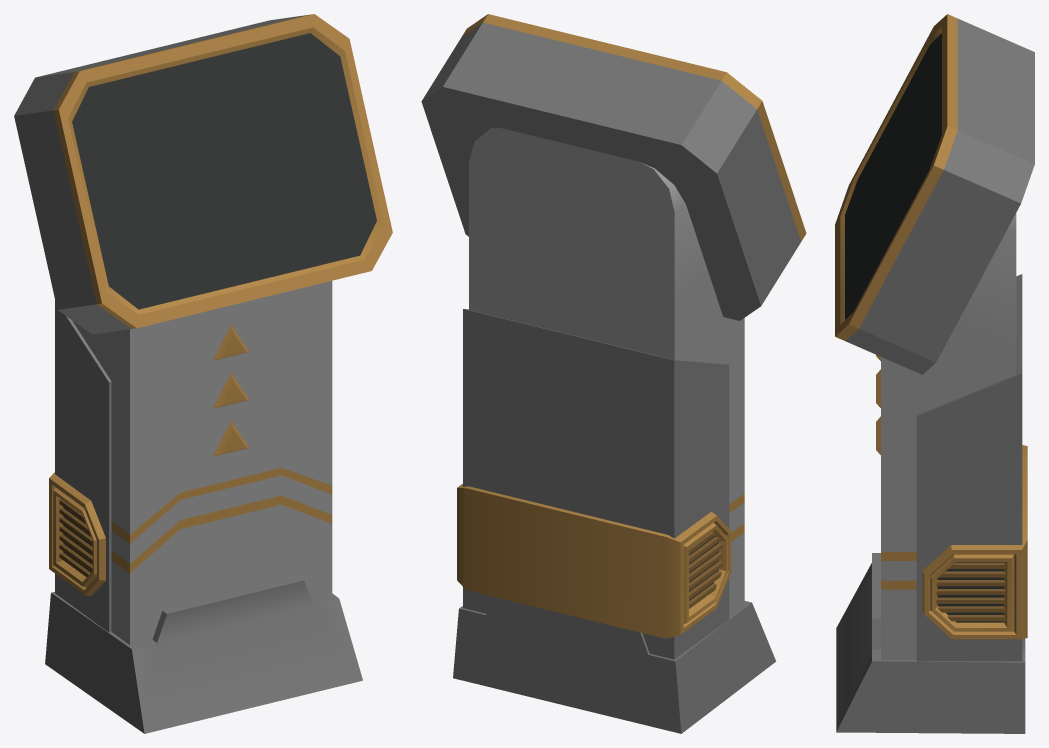
The model's file is quaternius-modular-sci-fi-props-computer-small.glb.
3 renders of one model, left to right at view 1: azimuth 30°, elevation 25°; view 2: azimuth 150°, elevation 25°; view 3: azimuth 270°, elevation 25°, orthographic. The views are drawn at different scales.
Visible parts, largest first — view 1: Props_ComputerSmall; view 2: Props_ComputerSmall; view 3: Props_ComputerSmall.
Part boxes in pixels (left/top/right/bottom): Props_ComputerSmall: left=14, top=14, right=392, bottom=733; Props_ComputerSmall: left=421, top=14, right=806, bottom=733; Props_ComputerSmall: left=835, top=14, right=1034, bottom=733.
Size of the model in its own units: 0.7511 by 1.54 by 0.4564.
1 material, 1 textured.
